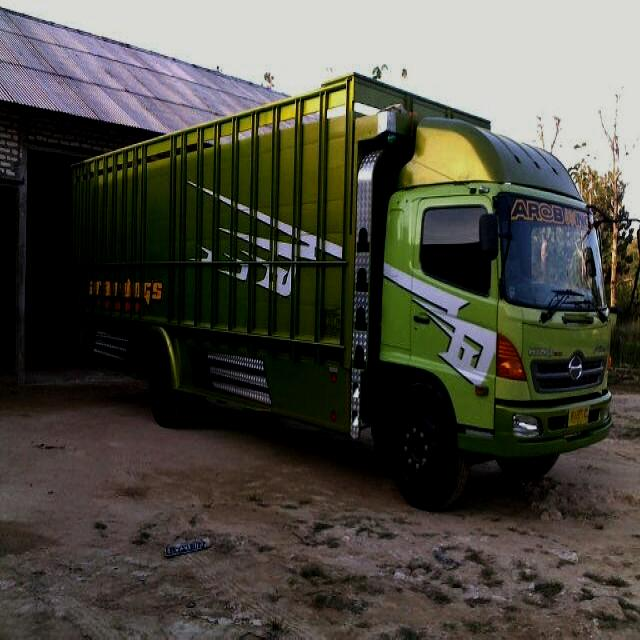truck: (76, 74, 613, 500)
